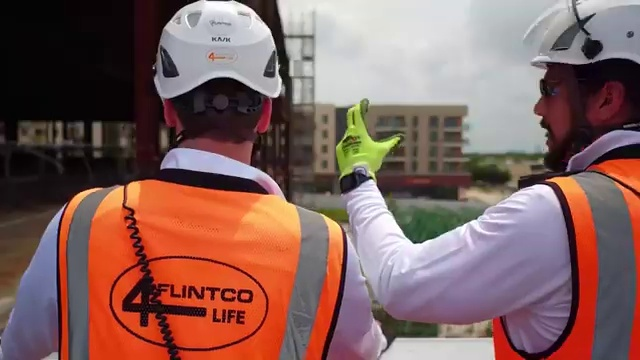helmet: (153, 1, 283, 111)
jacket: (55, 173, 347, 360)
